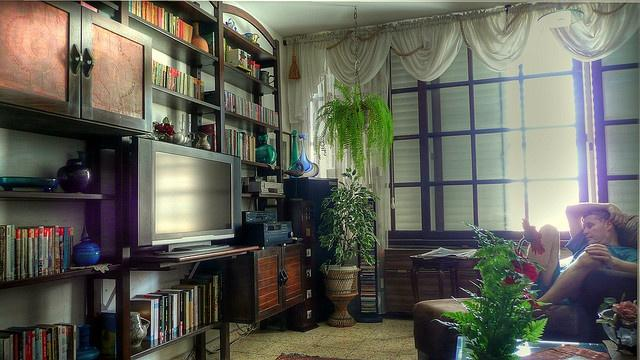AIO PC-Monitor-TV: (135, 136, 242, 253)
Lemari: (0, 0, 152, 135)
